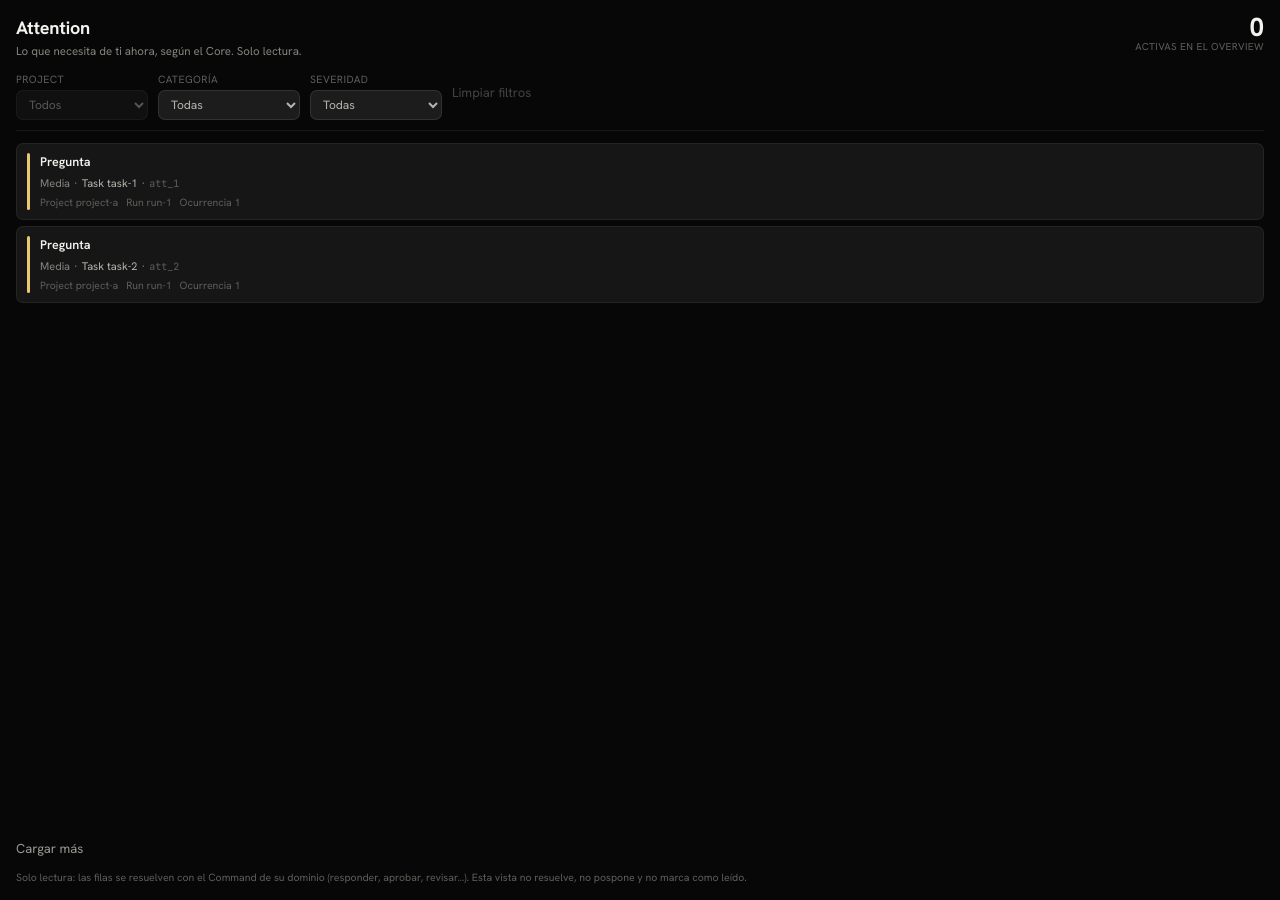
Scenario: AttentionInbox › pagina con el cursor opaco y no duplica filas que se solapan
Expected: the number of list items is 2, [16, 143, 1264, 220]; [16, 226, 1264, 303]
Click the button "Cargar más": (50, 849) [16, 839, 83, 858]
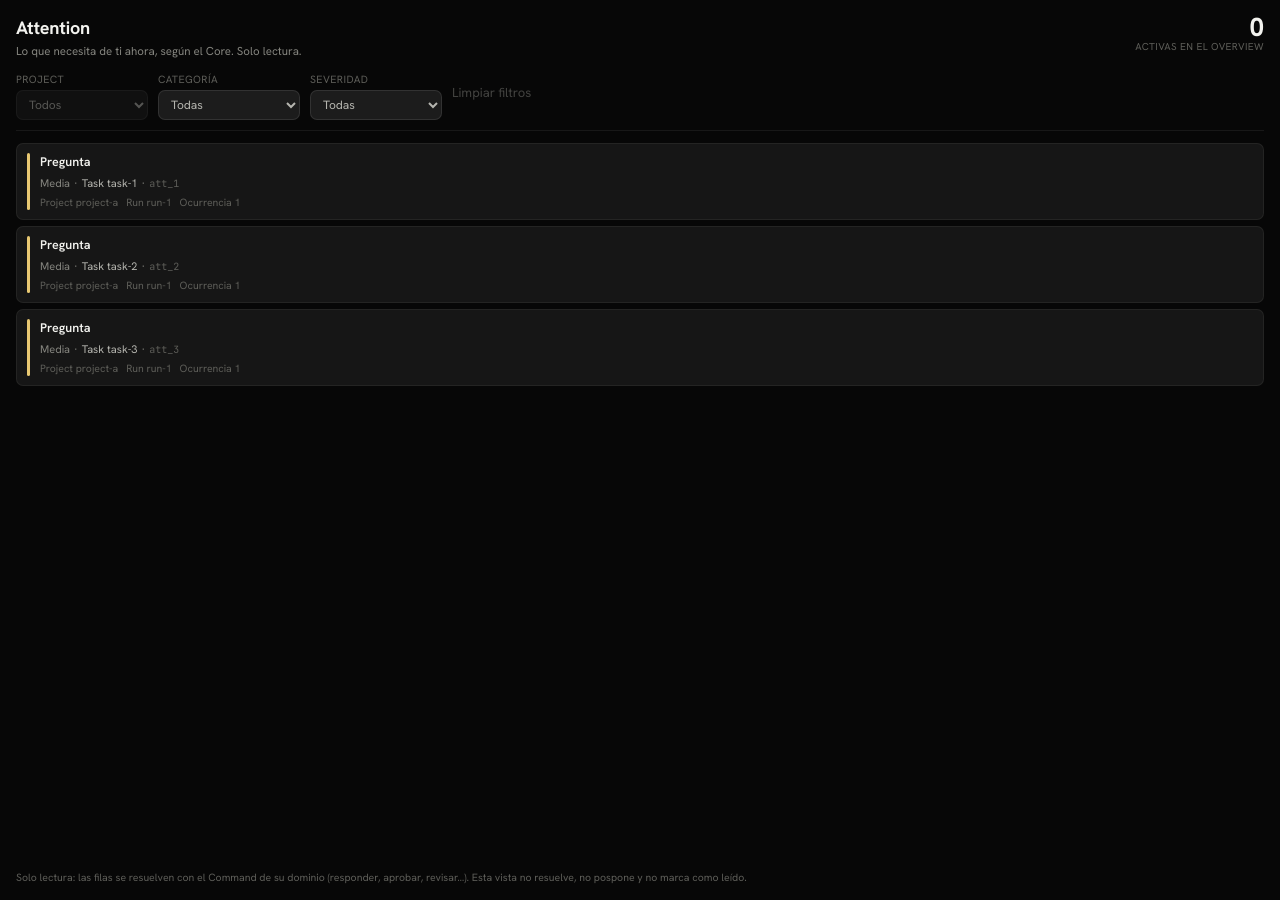
Expected: the number of list items is 3, [16, 143, 1264, 220]; [16, 226, 1264, 303]; [16, 309, 1264, 386]
Expected: the button "Cargar más" is gone
